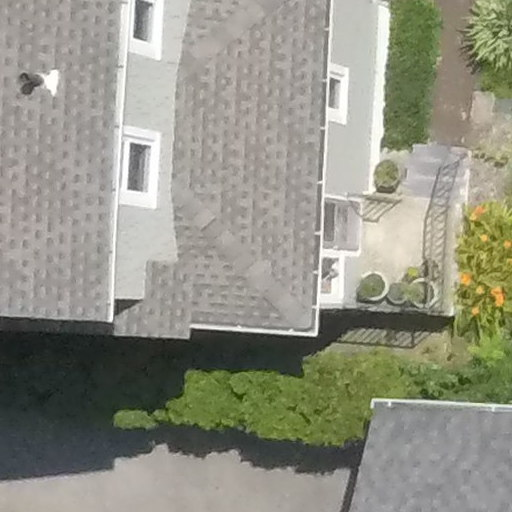container: (370, 155, 412, 193), (350, 264, 389, 304), (406, 272, 445, 310), (385, 274, 414, 310), (418, 252, 442, 284)
porch: (336, 136, 491, 342)
